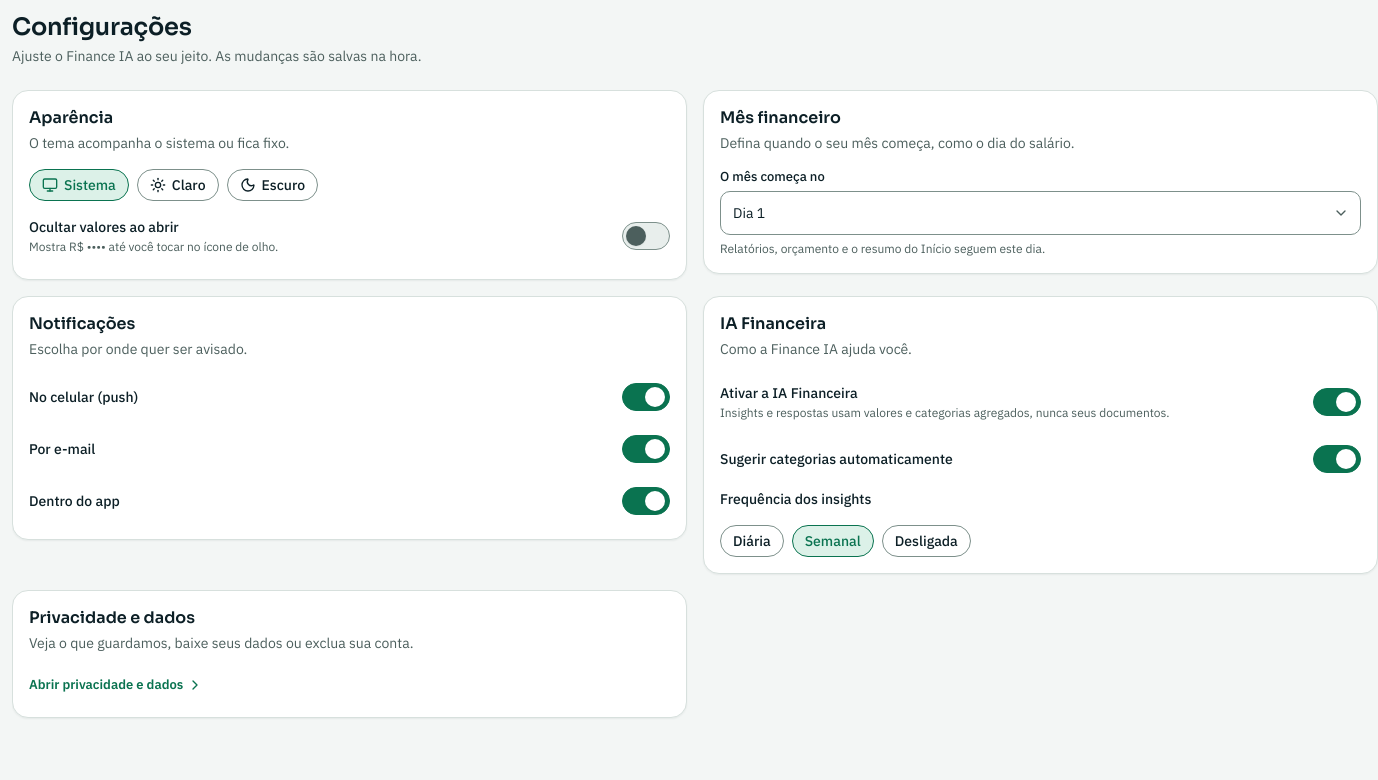
Test: Configurações › desativar a IA desativa as opções dependentes
This screenshot has width=1378, height=780.
Expected: the switch named "No celular (push)" in the row of "No celular (push)" is shown, x1=622 y1=383 x2=670 y2=411
Click the switch named "Ativar a IA Financeira" in the row of "Ativar a IA Financeira".
click(1337, 402)  # box x1=1313 y1=388 x2=1361 y2=416
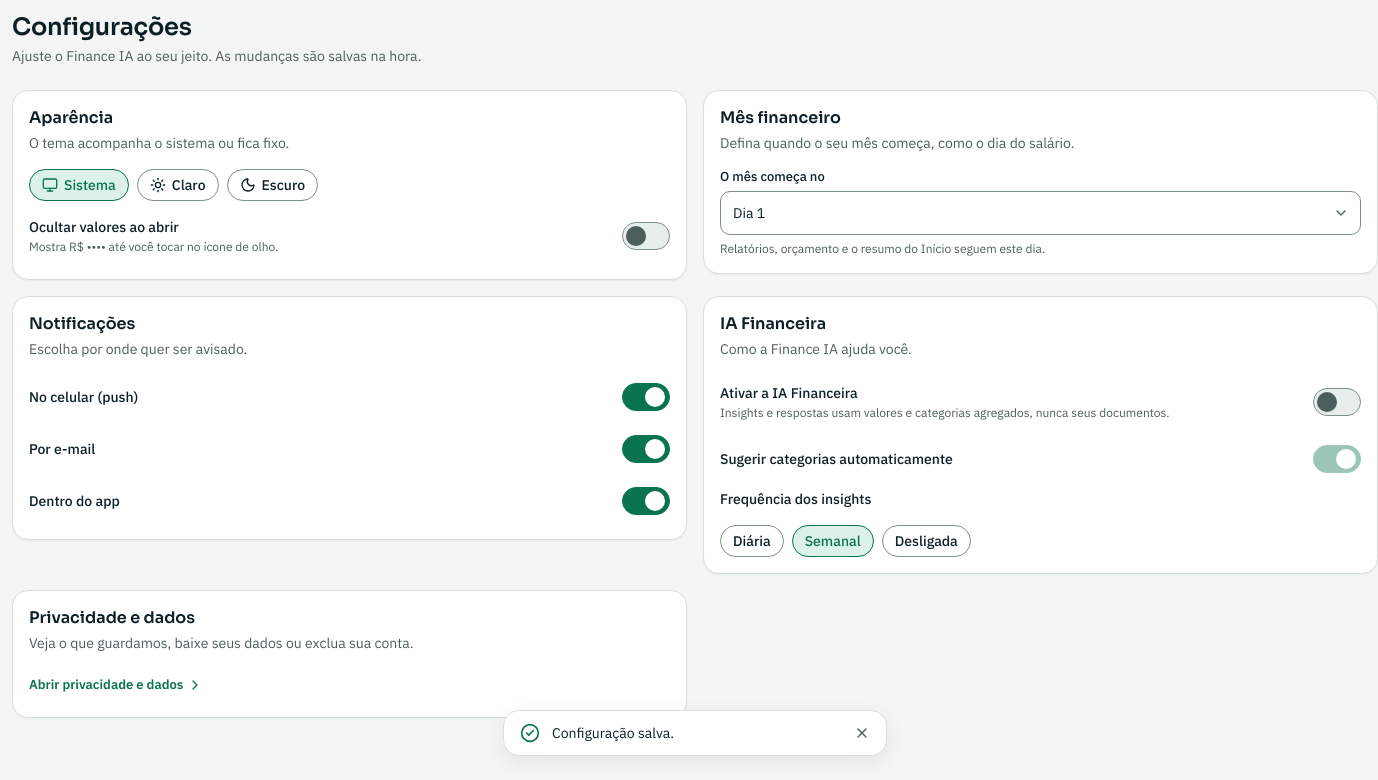
Expected: the switch named "Sugerir categorias automaticamente" in the row of "Sugerir categorias automaticamente" is disabled, x1=1313 y1=445 x2=1361 y2=473
